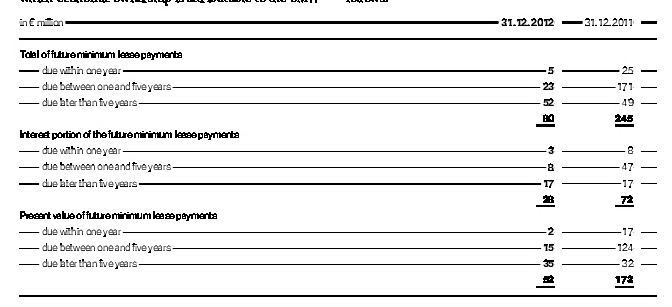table: (0, 0, 672, 307)
